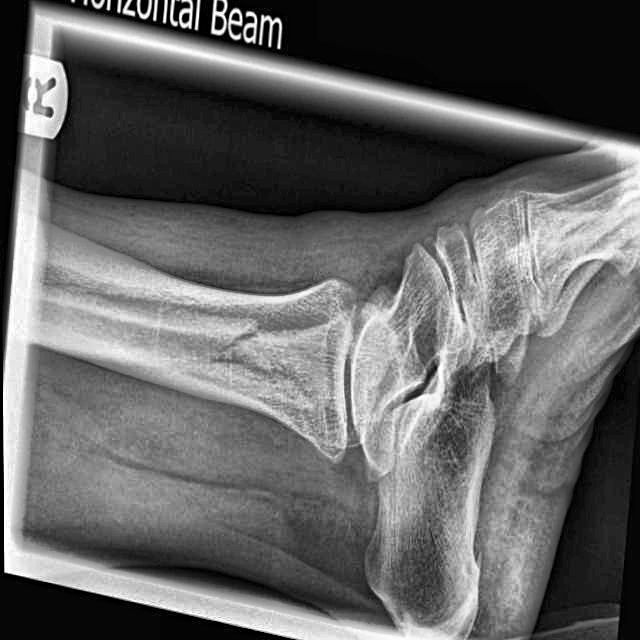Oblique Displaced: (206, 279, 277, 425)
